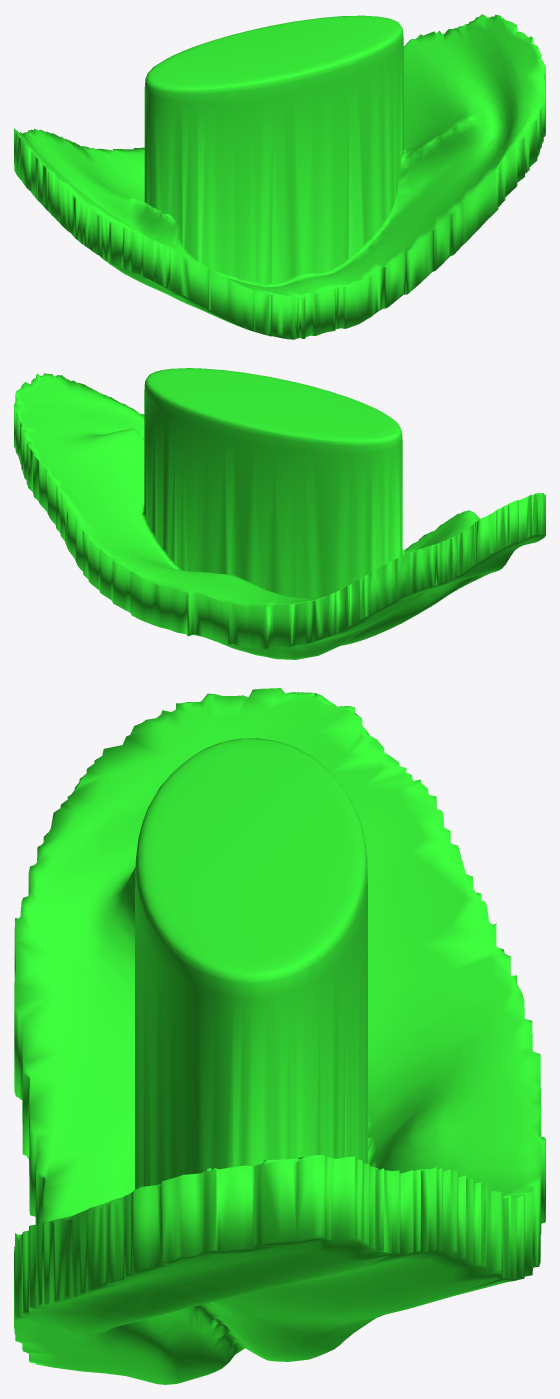
Rendered from Grin.obj.
The picture shows the model from 3 angles, top to bottom: view 1: azimuth 30°, elevation 25°; view 2: azimuth 150°, elevation 25°; view 3: azimuth 270°, elevation 25°; orthographic projection. The views are drawn at different scales.
Parts seen in each view (by area): view 1: Grin; view 2: Grin; view 3: Grin.
Boxes of the visible parts, x1,y1,x2,y2 form: Grin: [14, 14, 545, 339]; Grin: [14, 368, 545, 659]; Grin: [14, 688, 545, 1384].
Bounding box in the file's own units: 1 × 0.4935 × 0.473.
